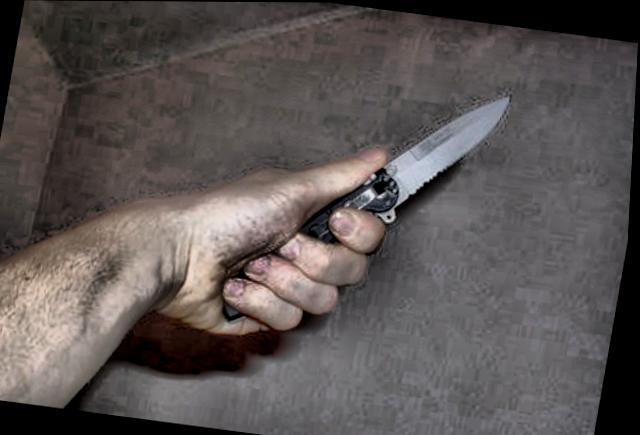knife: (246, 56, 521, 314)
